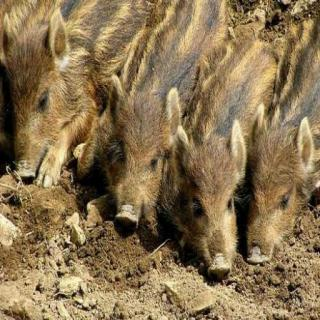Pig: (166, 31, 274, 310), (0, 0, 150, 178), (112, 0, 208, 235), (238, 22, 320, 280)
